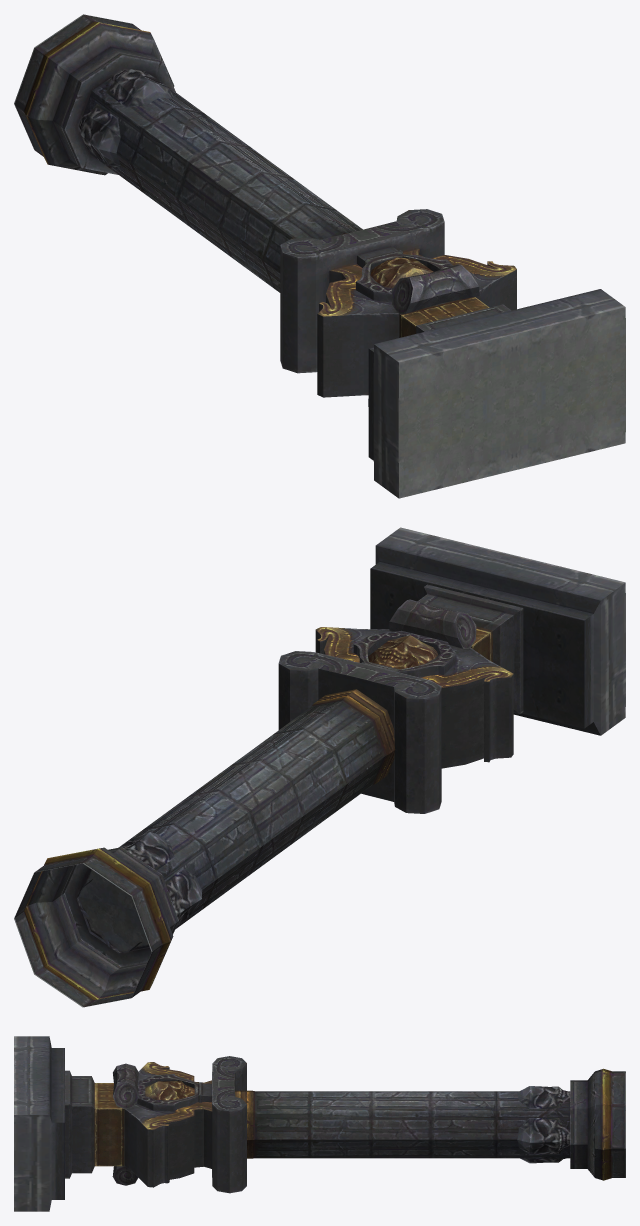
File: huodong_fuben_647_zhuzi04b.obj
3 views of the same model, one above another, from view 1: azimuth 30°, elevation 25°; view 2: azimuth 150°, elevation 25°; view 3: azimuth 270°, elevation 25° (orthographic). The views are drawn at different scales.
Visible parts, largest first — view 1: huodong_fuben_647_zhuzi04b; view 2: huodong_fuben_647_zhuzi04b; view 3: huodong_fuben_647_zhuzi04b.
Part boxes in pixels (bbox=[...]): huodong_fuben_647_zhuzi04b: bbox=[14, 14, 625, 498]; huodong_fuben_647_zhuzi04b: bbox=[14, 527, 625, 1007]; huodong_fuben_647_zhuzi04b: bbox=[14, 1036, 625, 1211].
Bounding box in the file's own units: 210 × 134 × 689.
Materials: 1 (1 with a texture image).
